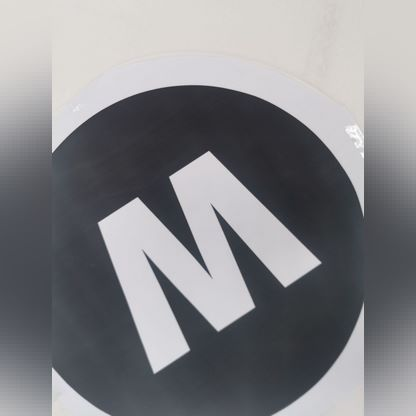W: (76, 127, 337, 371)
